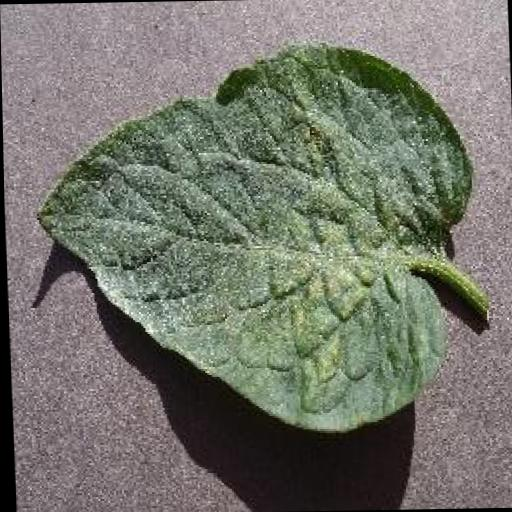Spider Mites: (24, 40, 480, 438)
